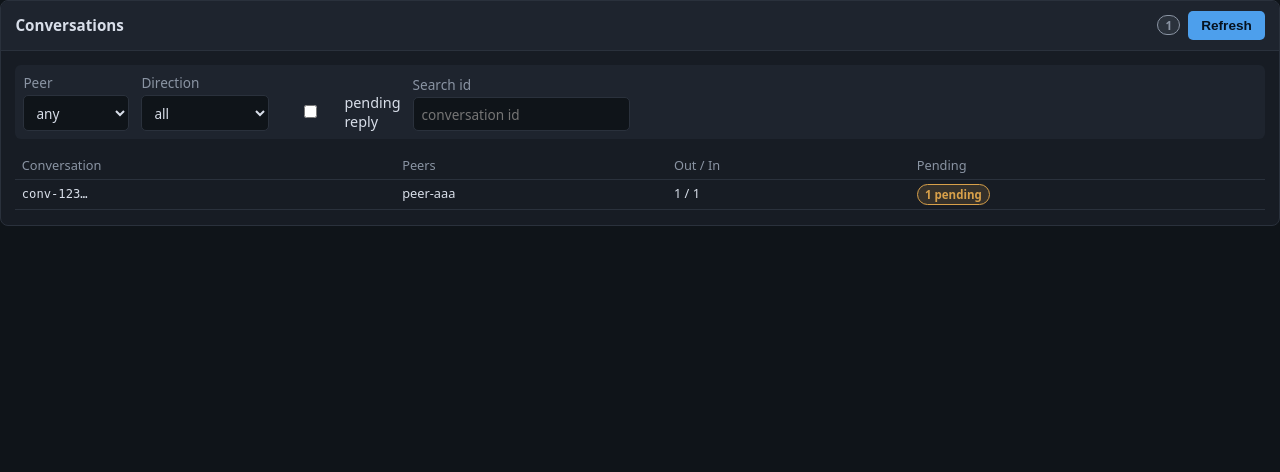
it: ConversationsPage › shows ACK distinctly from a semantic reply in the timeline
What coordinates should you click on to do the following:
click the text "conv-123…"
I would click on:
 (51, 194)
Its box is [22,187,88,201].
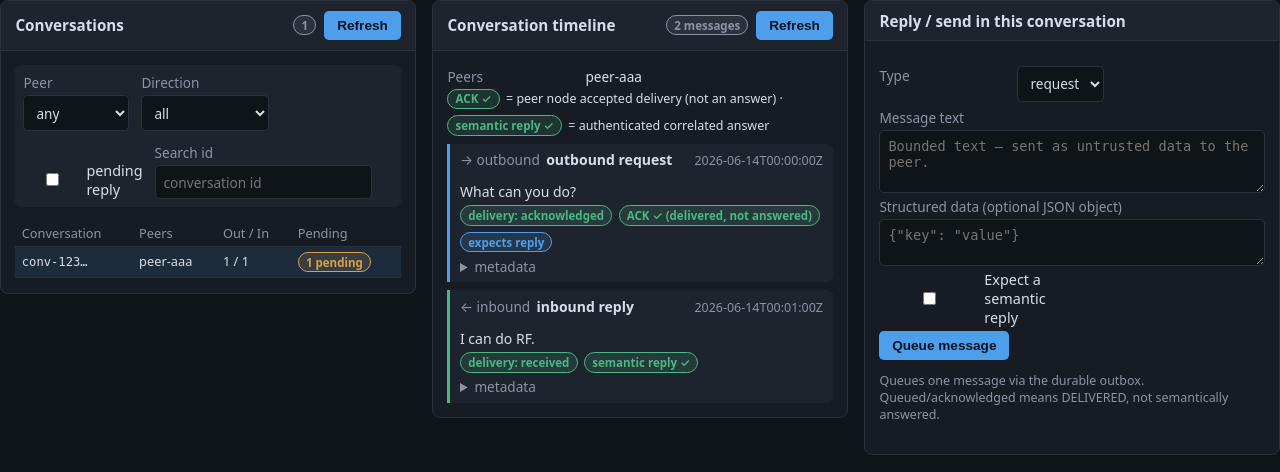
Expected: the text "ACK ✓ (delivered, not answered)" is shown, [619,206,820,226]
Expected: the text "What can you do?" is shown, [460,182,576,201]
